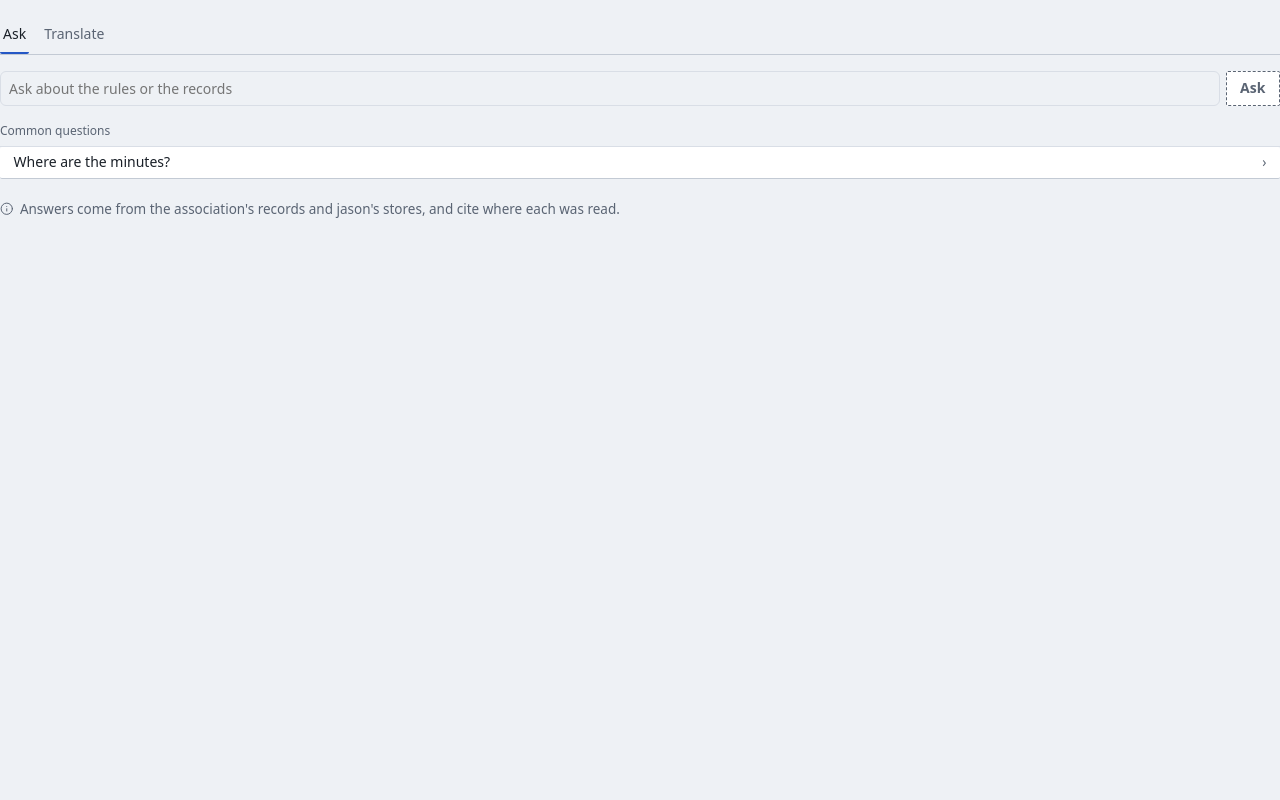
Test case: AskPanel: sources as Doc chips › not allowed: the server's reason
Click the button "Where are the minutes? ›".
click(92, 162)  # box x1=0 y1=147 x2=1279 y2=179
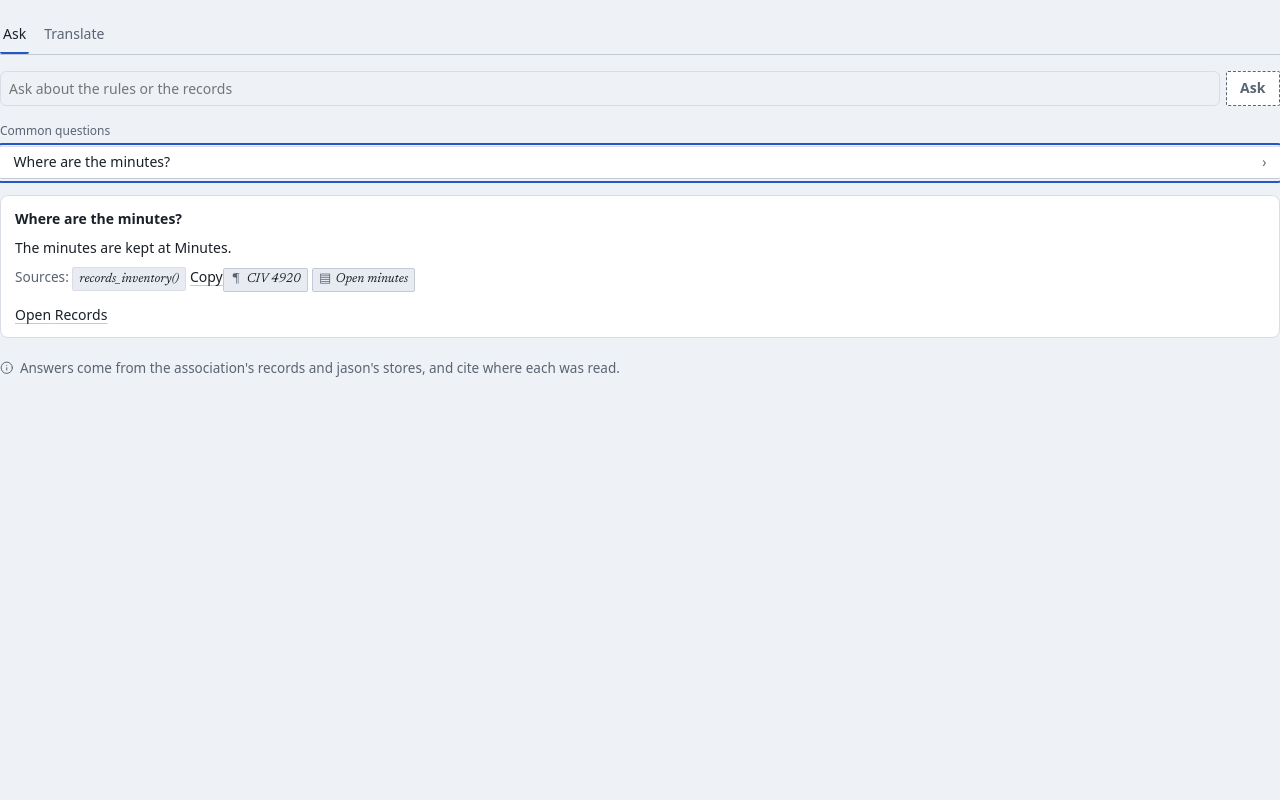
Click the button with aria-label "Open Open minutes".
click(364, 280)  # box x1=312 y1=268 x2=415 y2=292
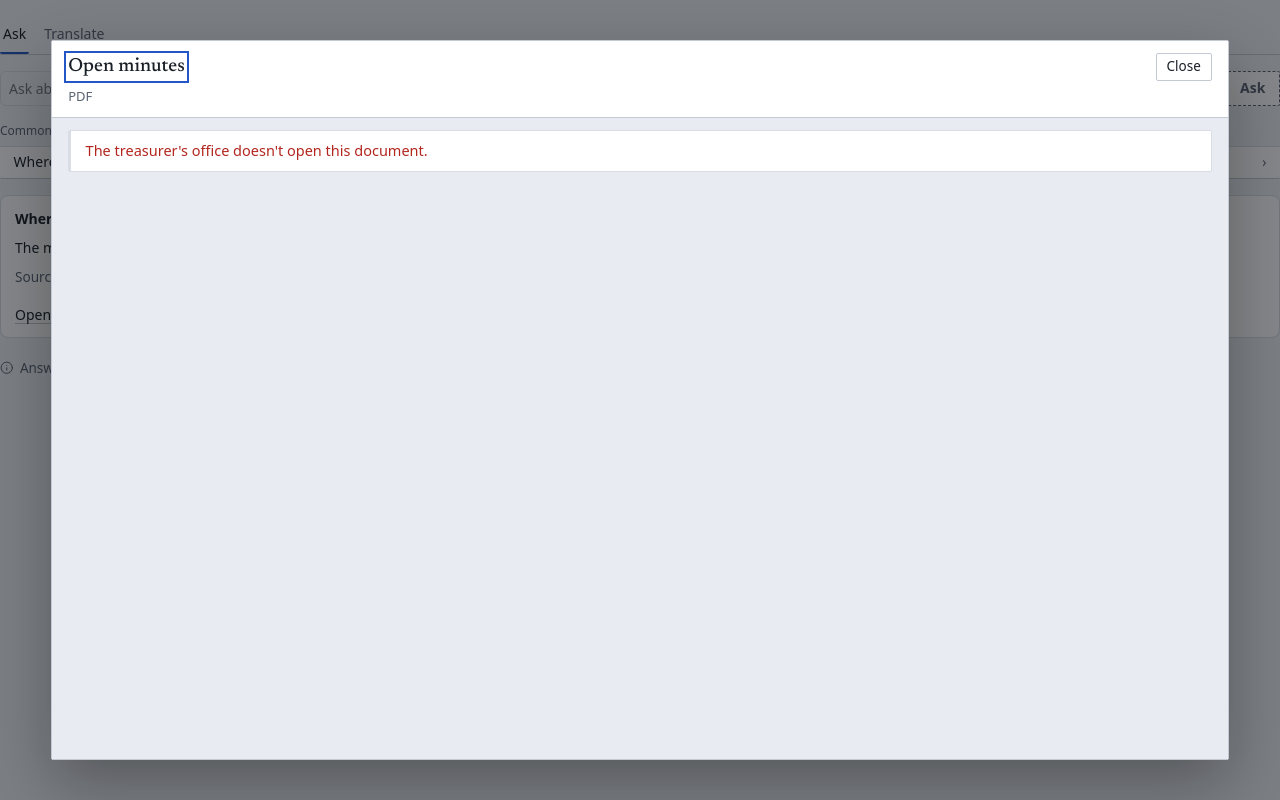
Check: the text "The treasurer's office doesn't open this document." is shown, box x1=68 y1=130 x2=1212 y2=172
